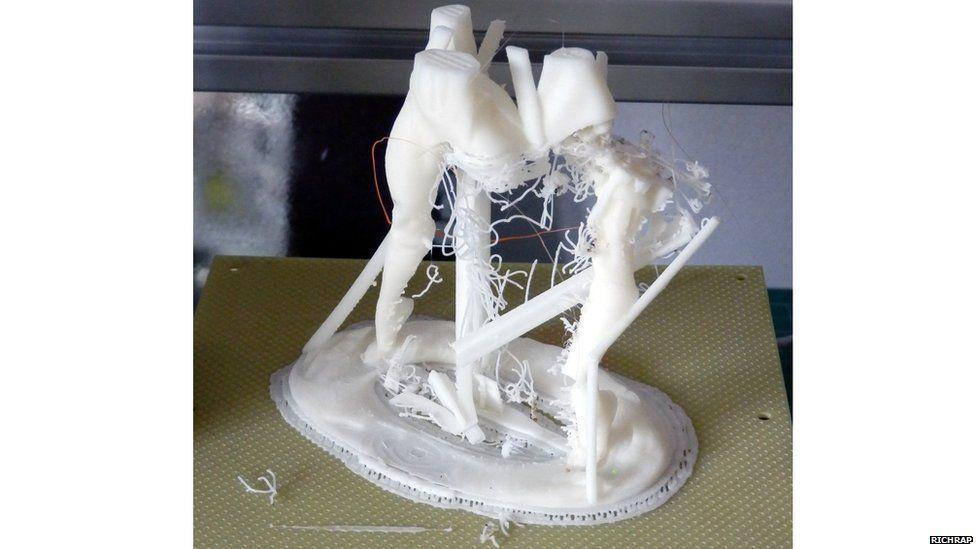Spaghetti: (427, 133, 610, 288), (482, 349, 545, 421)
Stringing or Oozing: (614, 131, 725, 250), (548, 298, 591, 457)
